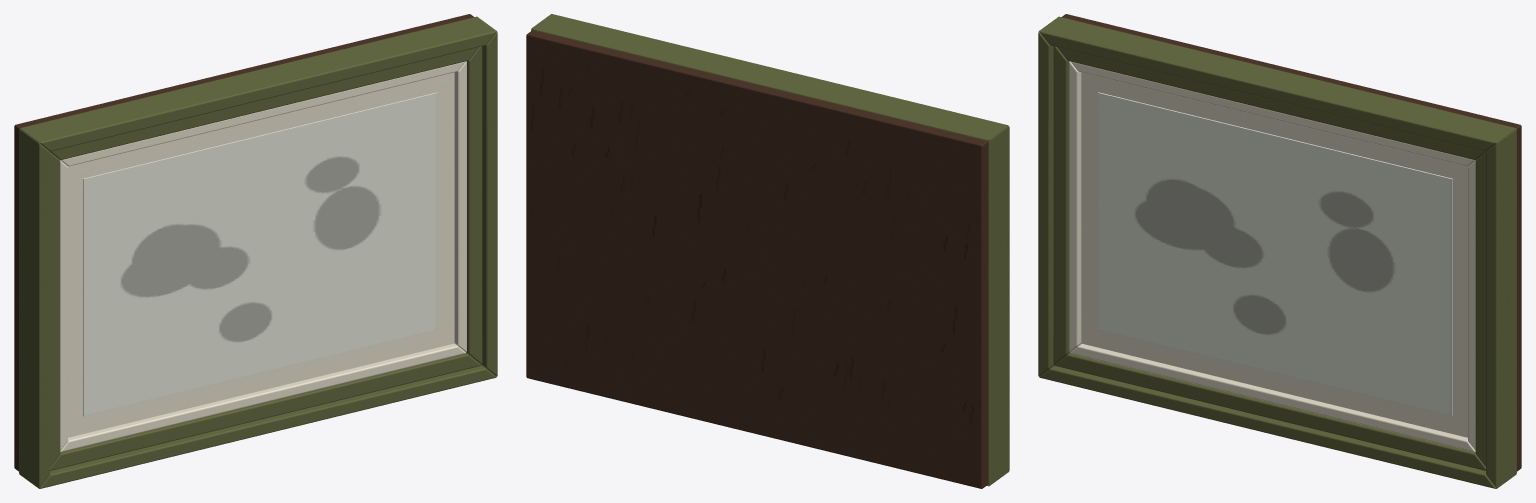
The model's file is Frame_17_FUR06.fbx.
The picture shows the model from 3 angles, left to right: view 1: azimuth 30°, elevation 25°; view 2: azimuth 150°, elevation 25°; view 3: azimuth 330°, elevation 25°; orthographic projection.
Parts seen in each view (by area): view 1: Frame_17; view 2: Frame_17; view 3: Frame_17.
Boxes of the visible parts, x1,y1,x2,y2 form: Frame_17: (14,14,497,488); Frame_17: (526,14,1009,488); Frame_17: (1038,14,1521,488).
Size of the model in its own units: 0.36 by 0.26 by 0.036.
2 materials, 2 textured.
